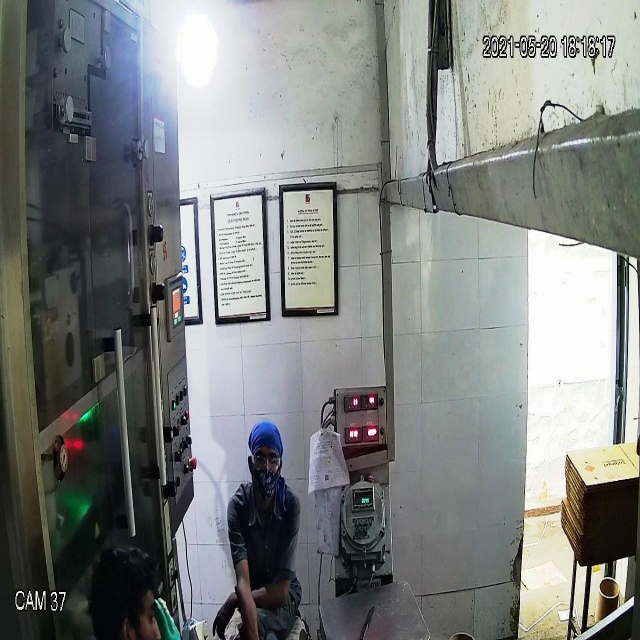Gafas: (245, 445, 284, 476)
